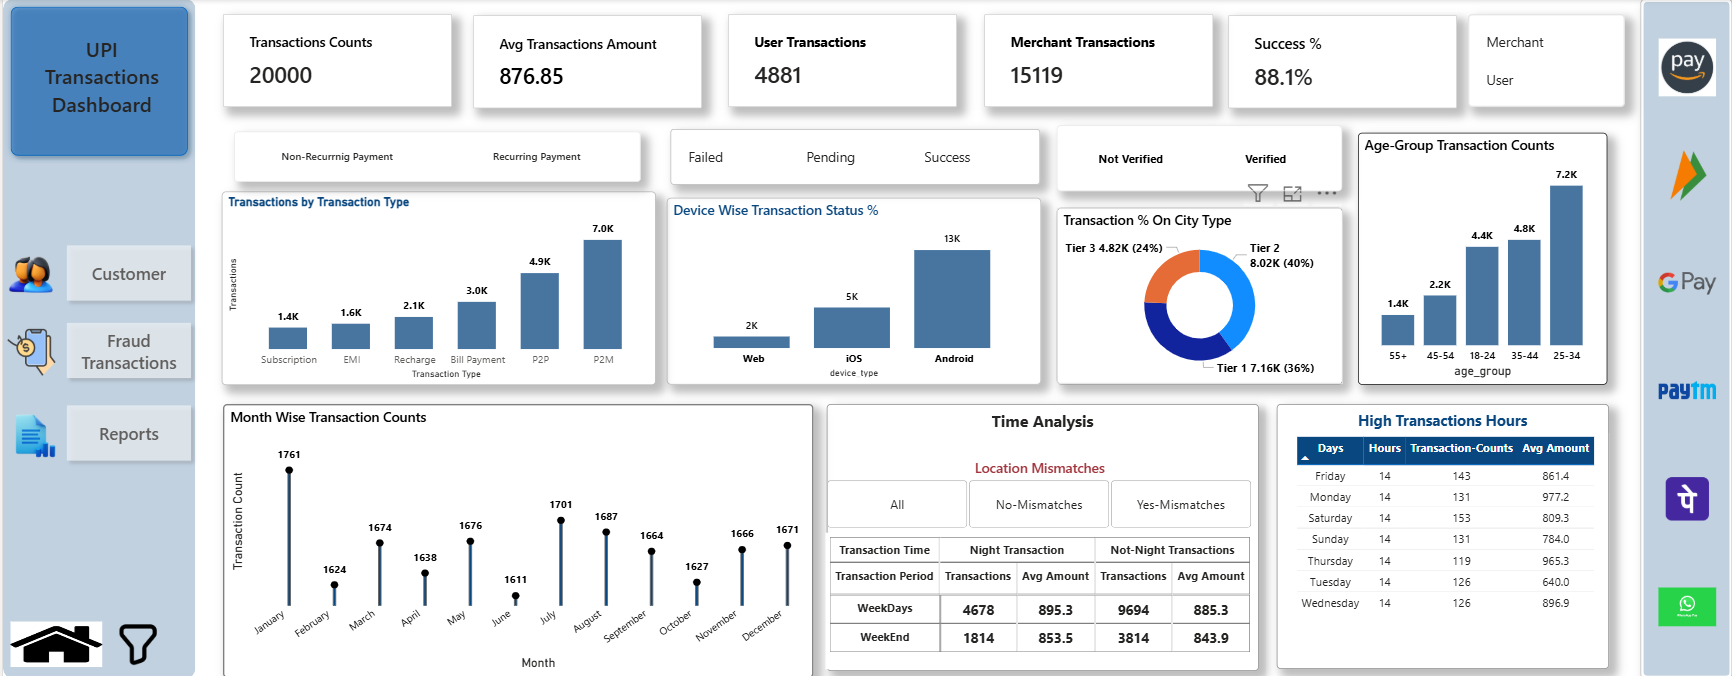

Layout of this report page (visuals, bound fields, positions):
{"tool":"powerbi","page":{"name":"Transaction","canvas":[2050,800],"ordinal":1},"visuals":[{"type":"shape","box":[0,0,226.7,193.5],"z":0,"group":"g1"},{"type":"shape","box":[0,0,226.7,799.8],"z":0,"group":"g8"},{"type":"clusteredColumnChart","title":"Device Wise Transaction Status %","fields":{"Category":["transactions.device_type"],"Y":["fraud_labels.Transaction_Counts"]},"box":[781.2,234.7,441.1,219.8],"z":0},{"type":"actionButton","box":[66,280.8,164.1,82.9],"z":0,"group":"g2"},{"type":"actionButton","box":[66,372.1,164.1,82.9],"z":0,"group":"g3"},{"type":"actionButton","box":[66,470.2,164.1,82.9],"z":0,"group":"g5"},{"type":"shape","box":[969.6,477.2,508.6,314.3],"z":0,"group":"g6"},{"type":"group","id":"g1","title":"Group 1","box":[0,0,226.7,193.5],"z":1000,"group":"g8"},{"type":"textbox","box":[30.5,39,171.2,114.1],"z":1000,"group":"g1"},{"type":"image","box":[1.7,294.3,64.3,59.2],"z":1000,"group":"g2"},{"type":"image","box":[1.7,385.6,64.3,59.2],"z":1000,"group":"g3"},{"type":"lineChart","title":"Month Wise Transaction Counts","fields":{"Category":["transactions.timestamp.Variation.Date Hierarchy.Month"],"Y":["Count(transactions.transaction_id)"]},"box":[259.2,477.2,695.1,322.5],"z":1000},{"type":"image","box":[1.7,483.7,64.3,59.2],"z":1000,"group":"g5"},{"type":"pivotTable","fields":{"Values":["fraud_labels.Transaction_Counts","Avg(transactions.amount)"],"Columns":["transactions.is_night_transaction - Copy"],"Rows":["transactions.is_weekend - Copy"]},"box":[968.1,628.6,505.2,160.5],"z":1000,"group":"g6"},{"type":"cardVisual","fields":{"Data":["Count(transactions.transaction_id)"]},"box":[259.1,18.3,269.3,109.7],"z":2000,"group":"g7"},{"type":"clusteredColumnChart","title":"Age-Group Transaction Counts","fields":{"Category":["users.age_group"],"Y":["fraud_labels.Transaction_Counts"]},"box":[1595.7,156.8,293.7,297],"z":2000},{"type":"group","id":"g2","title":"Group 10","box":[1.7,280.8,228.3,82.9],"z":2000,"group":"g8"},{"type":"advancedSlicerVisual","title":"Location Mismatches","fields":{"Values":["slicer.Location Mis"]},"box":[965,540.6,510.3,87.9],"z":2000,"group":"g6"},{"type":"shape","box":[1928.2,0,108.3,800],"z":3000,"group":"g9"},{"type":"cardVisual","fields":{"Data":["fraud_labels.User_Transactions"]},"box":[854.1,18.3,269.3,109.7],"z":3000,"group":"g7"},{"type":"group","id":"g3","title":"Group 10","box":[1.7,372.1,228.3,82.9],"z":3000,"group":"g8"},{"type":"group","id":"g4","title":"Group 3","box":[1499.3,477.2,392.6,312.1],"z":3000},{"type":"advancedSlicerVisual","fields":{"Values":["slicer.preferred_ app"]},"box":[1942.8,16.6,80,769.9],"z":4000,"group":"g9"},{"type":"cardVisual","fields":{"Data":["fraud_labels.Success%"]},"box":[1442,19.8,269.3,109.7],"z":4000,"group":"g7"},{"type":"group","id":"g5","title":"Group 10","box":[1.7,470.2,228.3,82.9],"z":4000,"group":"g8"},{"type":"group","id":"g6","title":"Group 4","box":[965,477.2,513.1,314.3],"z":4000},{"type":"group","id":"g7","title":"Group 2","box":[259.1,18.3,1452.3,111.2],"z":5000},{"type":"cardVisual","fields":{"Data":["fraud_labels.Merch_Transactions"]},"box":[1155.1,18.3,269.3,109.7],"z":5000,"group":"g7"},{"type":"cardVisual","fields":{"Data":["Avg(fraud_labels.amount)"]},"box":[553.1,19.8,269.3,109.7],"z":6000,"group":"g7"},{"type":"donutChart","title":"Transaction % On City Type","fields":{"Category":["transactions.user_city_tier"],"Y":["Count(transactions.transaction_id)"]},"box":[1240.9,245.9,336.6,207.9],"z":6000},{"type":"group","id":"g8","title":"Group 11","box":[0,0,230,799.8],"z":7000},{"type":"group","id":"g9","title":"Group 12","box":[1928.2,0,108.3,800],"z":8000},{"type":"advancedSlicerVisual","fields":{"Values":["transactions.receiver_type"]},"box":[1725.6,17.9,184.9,109.3],"z":9000},{"type":"advancedSlicerVisual","fields":{"Values":["transactions.status"]},"box":[785.3,153.1,435.4,65.6],"z":10000},{"type":"advancedSlicerVisual","fields":{"Values":["transactions.user_kyc_status"]},"box":[1240.5,149.1,336,77.5],"z":11000},{"type":"clusteredColumnChart","fields":{"Category":["transactions.transaction_type"],"Y":["fraud_labels.Transaction_Counts"]},"box":[257,226.9,511.2,228.3],"z":12000},{"type":"advancedSlicerVisual","fields":{"Values":["transactions.Recurring Text"]},"box":[272.8,156.5,478.2,58.9],"z":13000},{"type":"shape","box":[1499.3,477.2,391,312.1],"z":13000,"group":"g4"},{"type":"image","box":[8.7,733.1,108,54],"z":14000},{"type":"tableEx","fields":{"Values":["transactions.day_of_week","transactions.hour_of_day","fraud_labels.Transaction_Counts","Avg(fraud_labels.amount)"]},"box":[1516.8,510.9,375.1,276],"z":15000,"group":"g4"},{"type":"image","box":[116.5,732.2,86,58.2],"z":15000}]}

Visuals, with their boxes in screenshot pixels (x1, y1, x2, y2), scaled from the page's 2050x800 canvas onto the 1732x676 screenshot:
shape: (0, 0, 192, 164)
shape: (0, 0, 192, 675)
"Device Wise Transaction Status %" clusteredColumnChart: (660, 198, 1033, 384)
actionButton: (56, 237, 194, 307)
actionButton: (56, 314, 194, 384)
actionButton: (56, 397, 194, 467)
shape: (819, 403, 1249, 669)
"Group 1" group: (0, 0, 192, 164)
textbox: (26, 33, 170, 129)
image: (1, 249, 56, 299)
image: (1, 326, 56, 376)
"Month Wise Transaction Counts" lineChart: (219, 403, 806, 675)
image: (1, 409, 56, 459)
pivotTable - fraud_labels.Transaction_Counts x Avg(transactions.amount): (818, 531, 1245, 667)
cardVisual - Count(transactions.transaction_id): (219, 15, 446, 108)
"Age-Group Transaction Counts" clusteredColumnChart: (1348, 132, 1596, 383)
"Group 10" group: (1, 237, 194, 307)
"Location Mismatches" advancedSlicerVisual: (815, 457, 1246, 531)
shape: (1629, 0, 1721, 675)
cardVisual - fraud_labels.User_Transactions: (722, 15, 949, 108)
"Group 10" group: (1, 314, 194, 384)
"Group 3" group: (1267, 403, 1598, 667)
advancedSlicerVisual - slicer.preferred_ app: (1641, 14, 1709, 665)
cardVisual - fraud_labels.Success%: (1218, 17, 1446, 109)
"Group 10" group: (1, 397, 194, 467)
"Group 4" group: (815, 403, 1249, 669)
"Group 2" group: (219, 15, 1446, 109)
cardVisual - fraud_labels.Merch_Transactions: (976, 15, 1203, 108)
cardVisual - Avg(fraud_labels.amount): (467, 17, 695, 109)
"Transaction % On City Type" donutChart: (1048, 208, 1333, 383)
"Group 11" group: (0, 0, 194, 675)
"Group 12" group: (1629, 0, 1721, 675)
advancedSlicerVisual - transactions.receiver_type: (1458, 15, 1614, 107)
advancedSlicerVisual - transactions.status: (663, 129, 1031, 185)
advancedSlicerVisual - transactions.user_kyc_status: (1048, 126, 1332, 191)
clusteredColumnChart - transactions.transaction_type x fraud_labels.Transaction_Counts: (217, 192, 649, 385)
advancedSlicerVisual - transactions.Recurring Text: (230, 132, 635, 182)
shape: (1267, 403, 1597, 667)
image: (7, 619, 99, 665)
tableEx - transactions.day_of_week x transactions.hour_of_day: (1282, 432, 1598, 665)
image: (98, 619, 171, 668)
